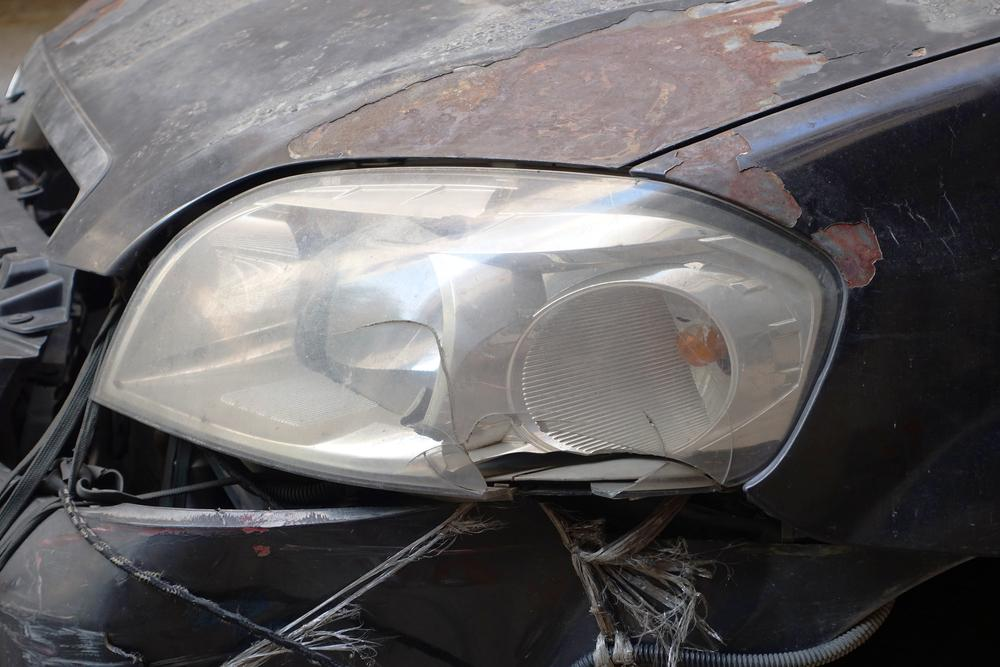lamp broken: (91, 164, 833, 497)
scratch: (0, 598, 150, 667)
